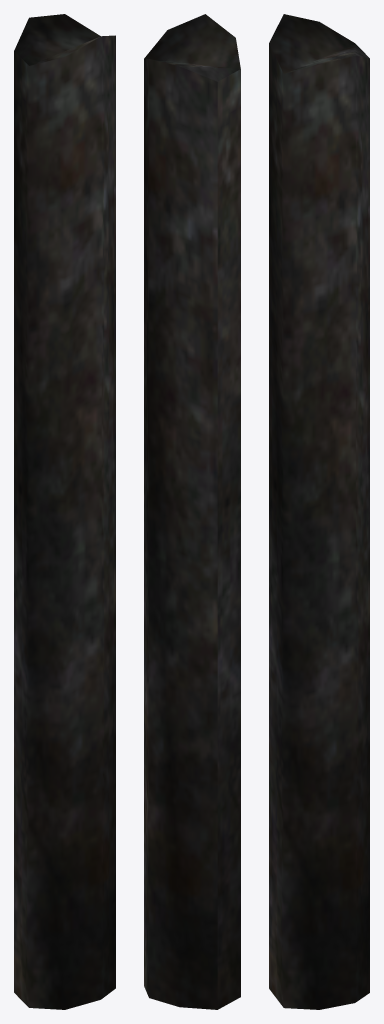
The model's file is wriggle_prison_bar.dae.
3 renders of one model, left to right at view 1: azimuth 90°, elevation 25°; view 2: azimuth 210°, elevation 25°; view 3: azimuth 270°, elevation 25°, orthographic.
Parts seen in each view (by area): view 1: polySurface22; view 2: polySurface22; view 3: polySurface22.
Boxes of the visible parts, bbox=[...] form: polySurface22: bbox=[14, 14, 115, 1009]; polySurface22: bbox=[144, 14, 240, 1009]; polySurface22: bbox=[269, 14, 369, 1009].
Bounding box in the file's own units: 0.0865 × 0.912 × 0.0865.
